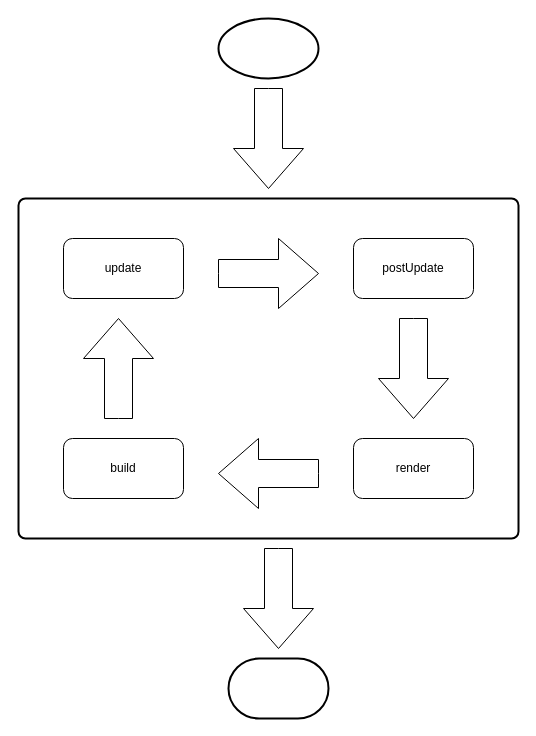
Image size: 536x736. Some labels were removed from this diagram. The shapes that lost their labels are listed below. From the top down, each one's box as (x1, y1, x2, y2) in pixels, then its label:
(217, 17, 319, 79): enter
(227, 657, 329, 719): leave
